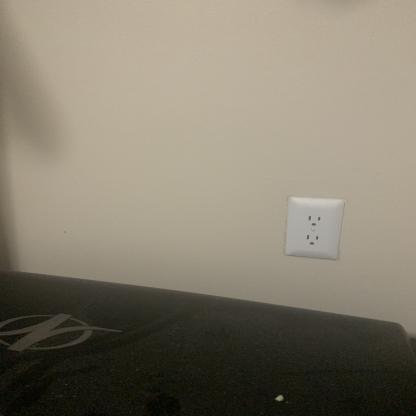OUTLET: (287, 198, 341, 258)
